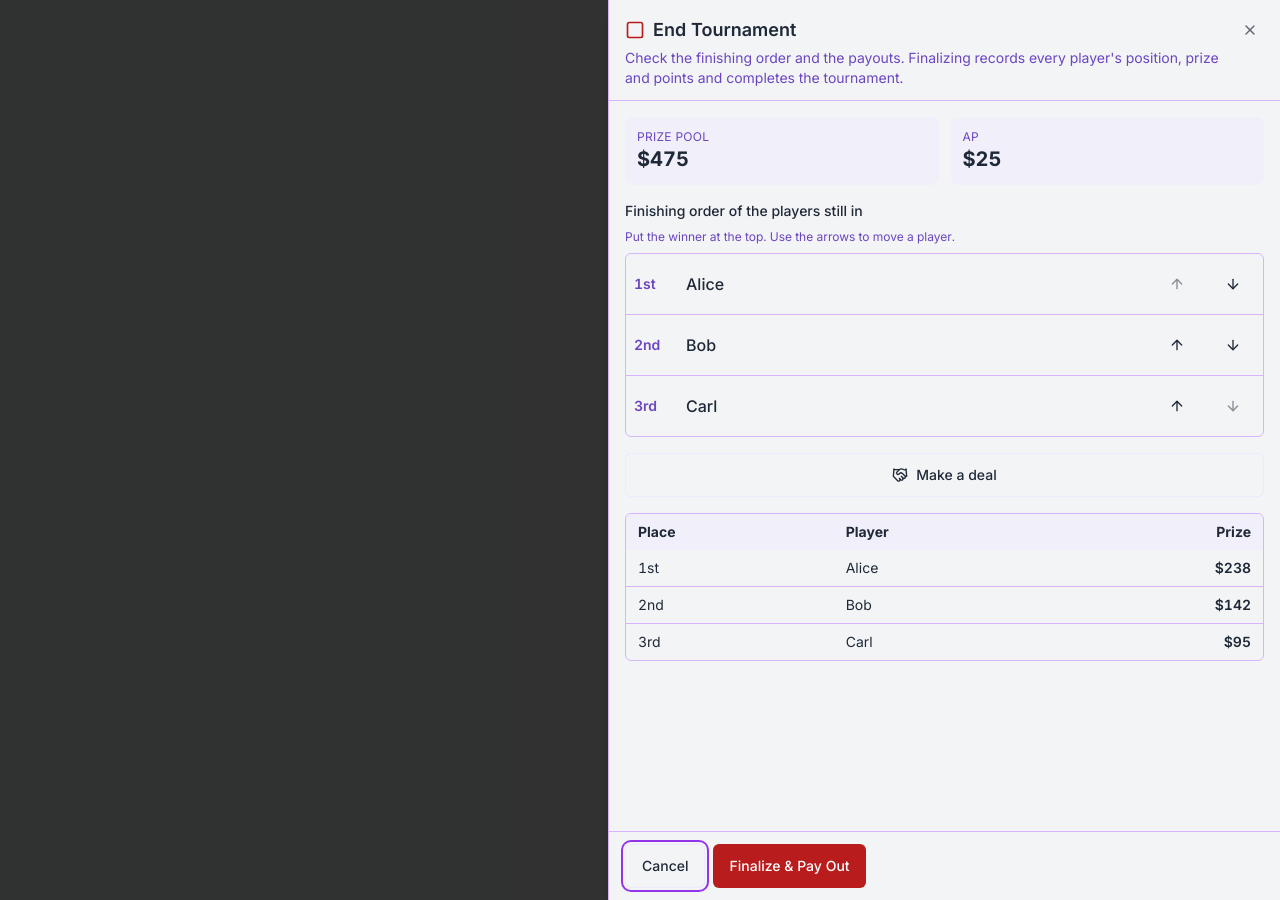
Test case: a deal at End Tournament › never previews or finalizes a deal that does not add up, and says by how much
Click the button with test id "make-deal": (944, 475) [625, 453, 1264, 497]
(page scrolled)
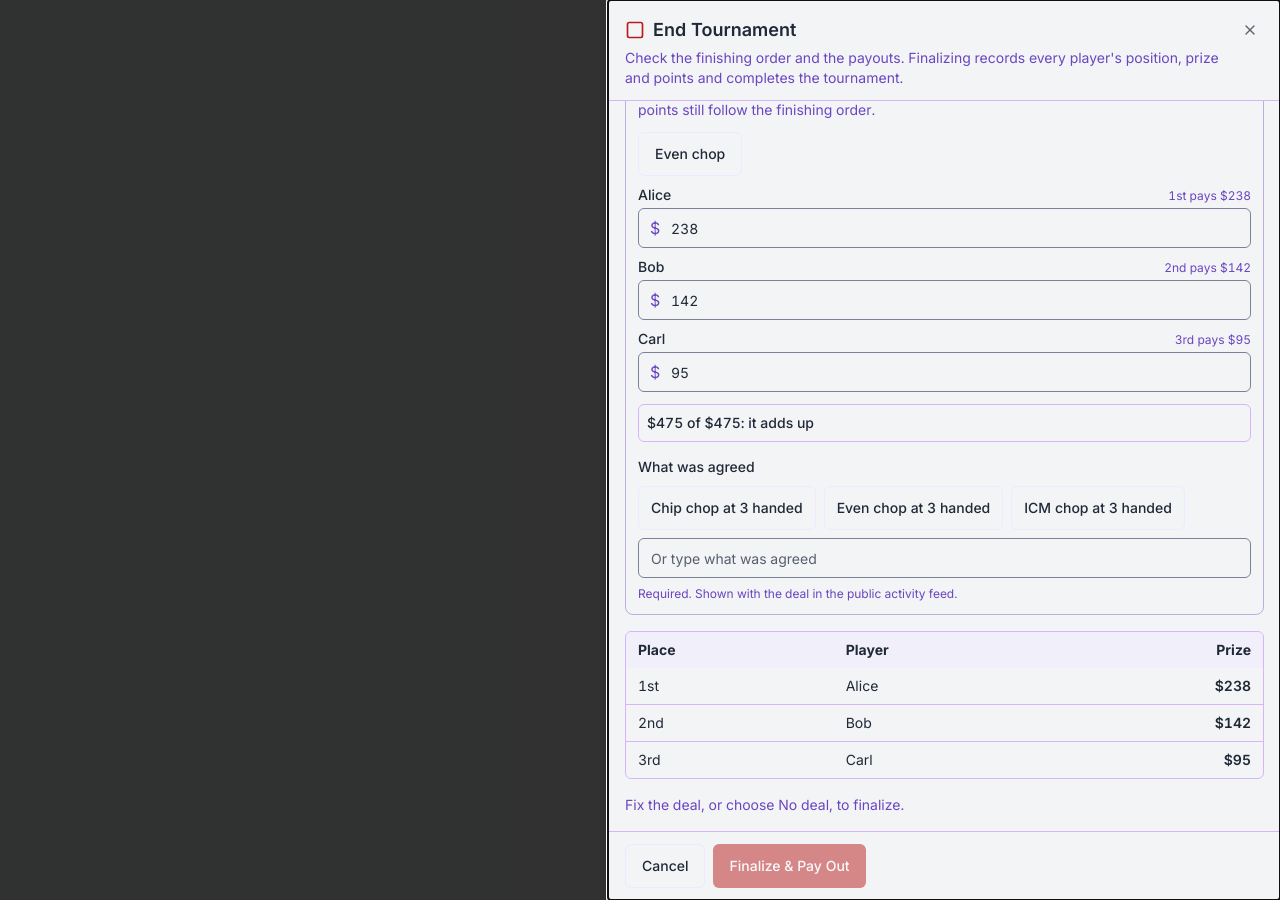
In the field labelled "What was agreed": (944, 558) [638, 538, 1251, 578], type "Chip chop"
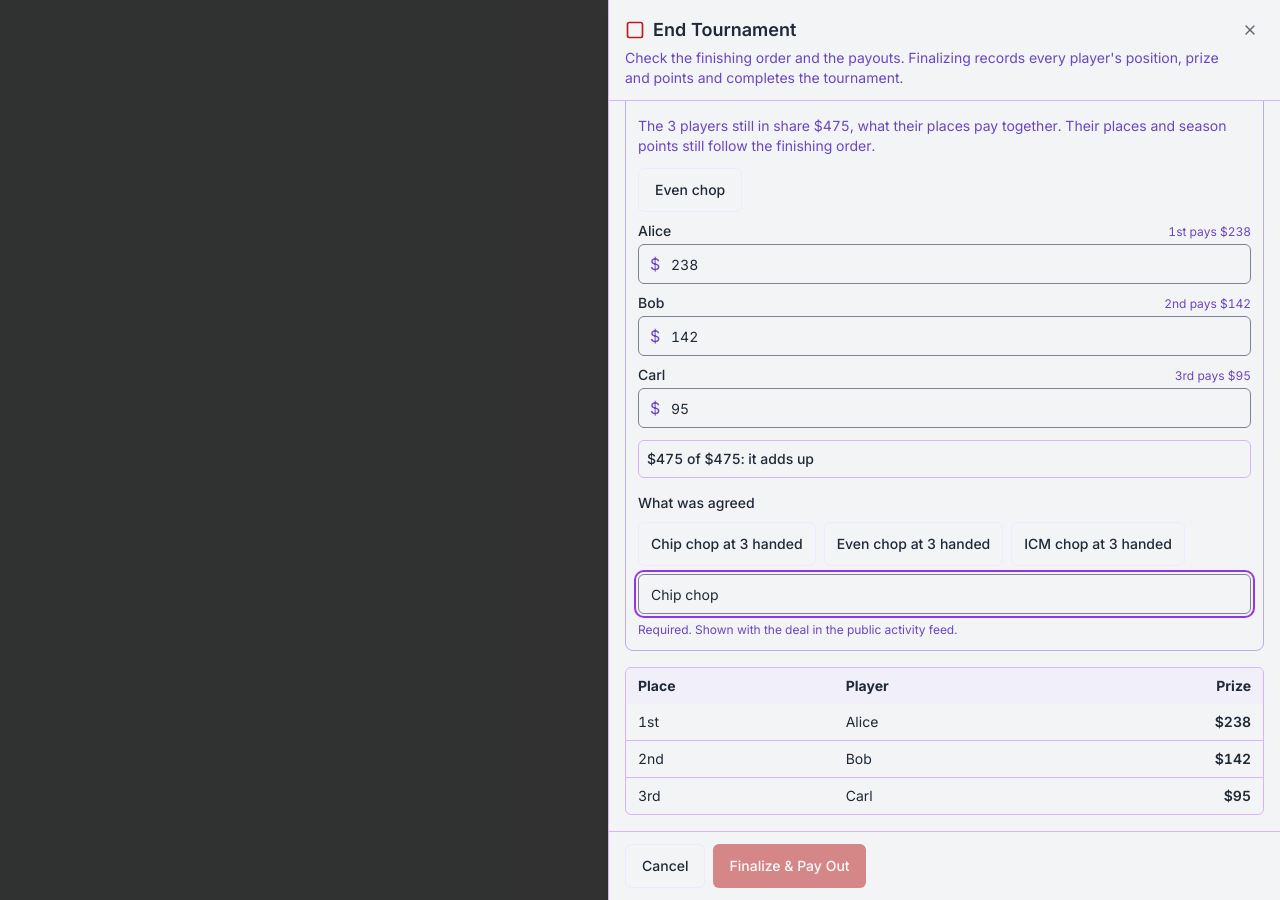
Replace the text in the field labelled "Alice" with "300": (944, 264) [638, 244, 1251, 284]
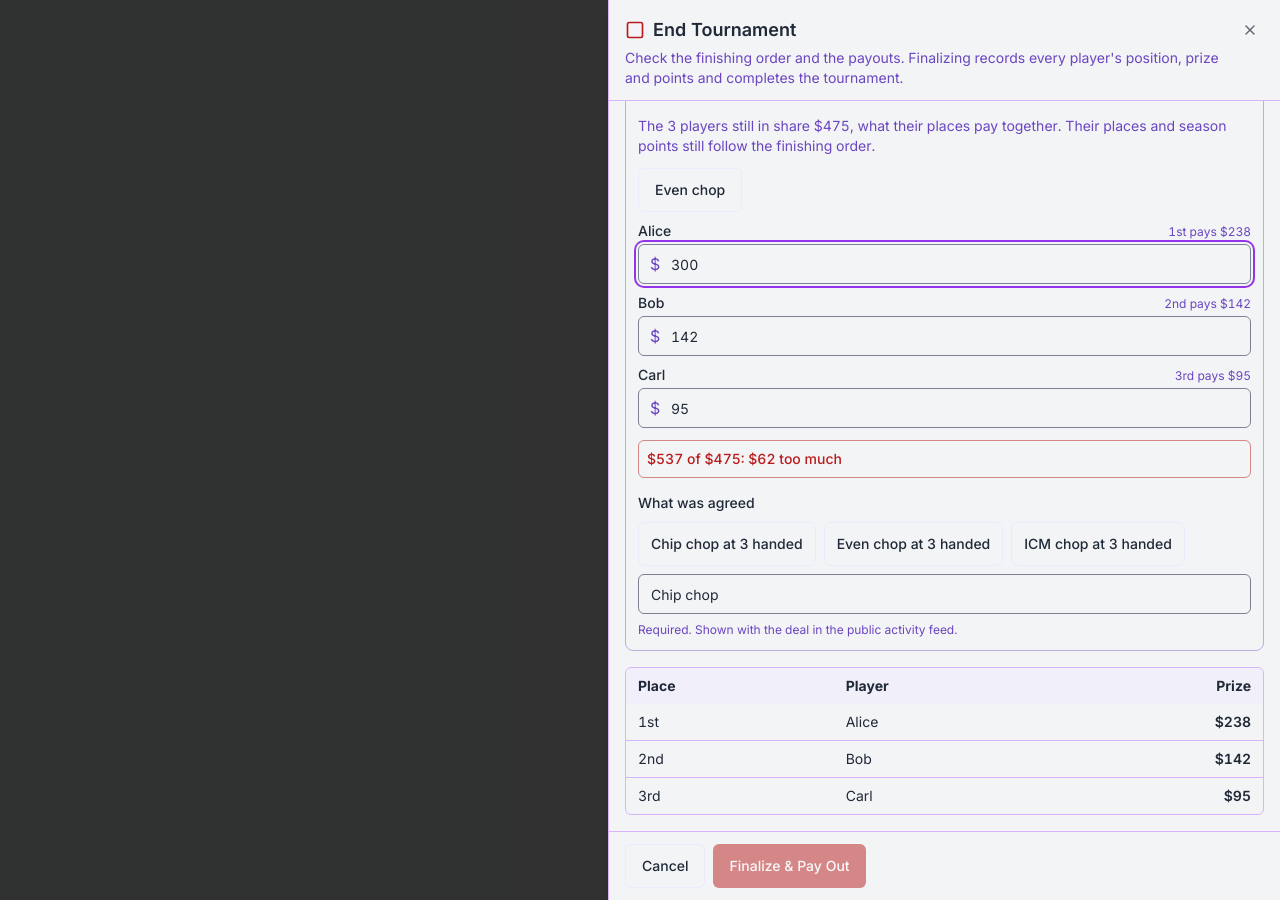
Now the button with test id "confirm-finalize" is disabled, box [714, 844, 866, 888]
Now the text with test id "deal-total" reads "$537 of $475: $62 too much", box [647, 450, 842, 467]
Clear the field labelled "Bob": (944, 336) [638, 316, 1251, 356]
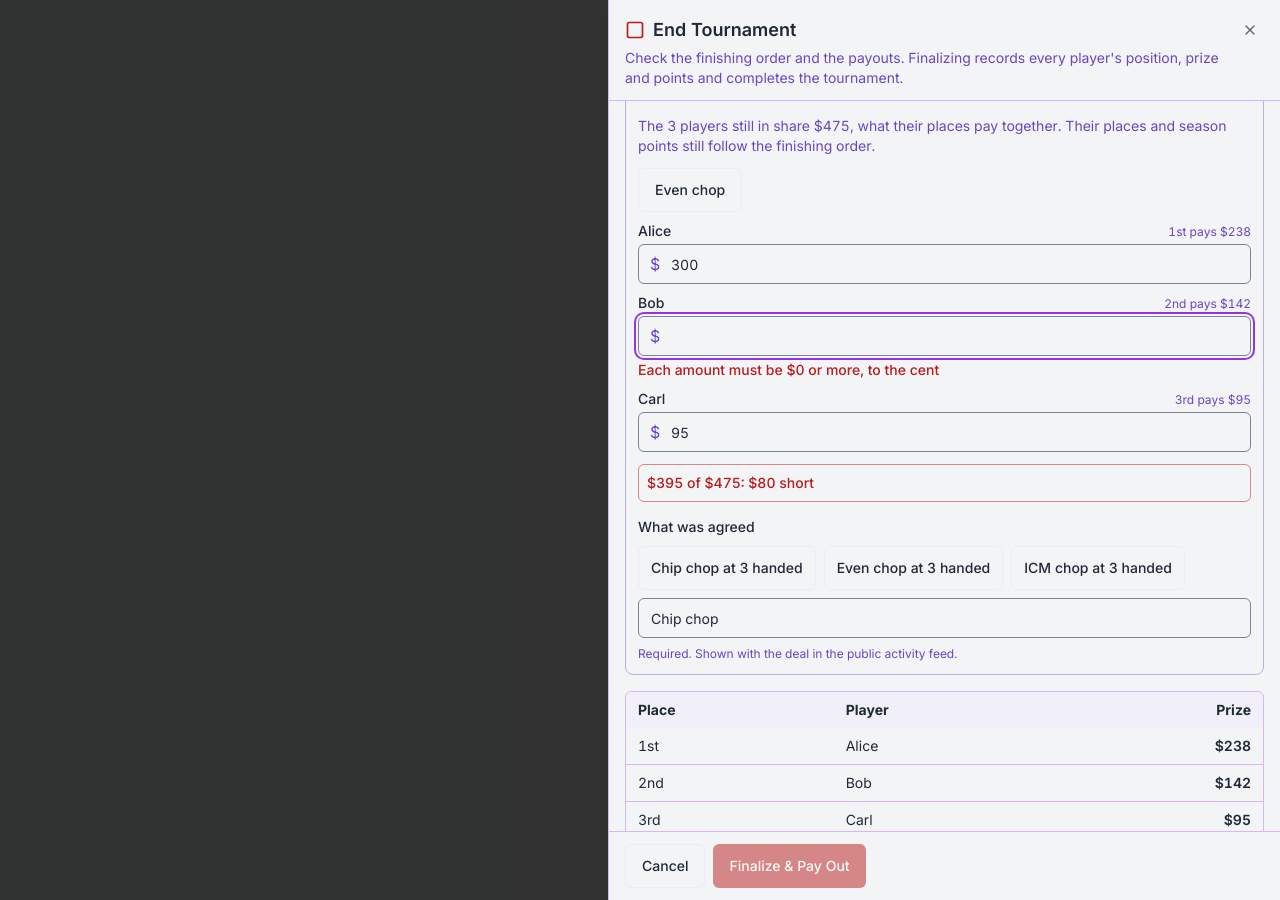
Now the text "Each amount must be $0 or more, to the cent" is shown, box [638, 361, 939, 378]
